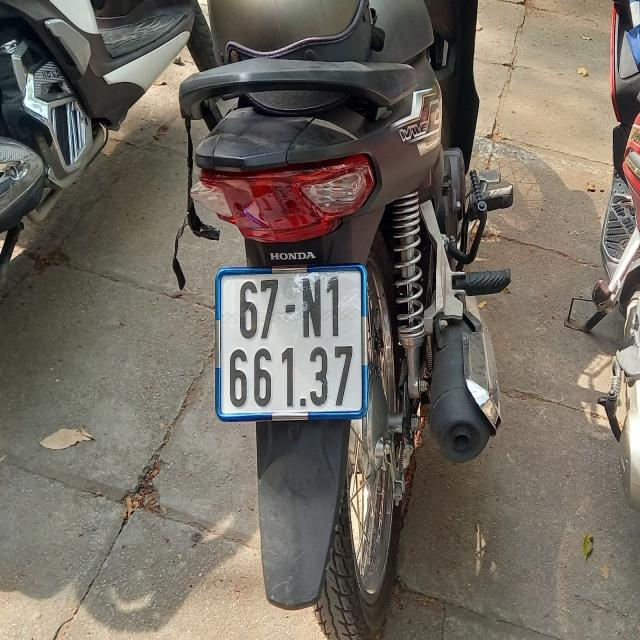1: (326, 276, 342, 340), (281, 347, 294, 406)
3: (309, 346, 330, 407)
6: (239, 280, 259, 340), (230, 350, 247, 407), (254, 347, 271, 404)
7: (260, 278, 279, 342), (335, 346, 352, 406)
N: (302, 277, 321, 336)
